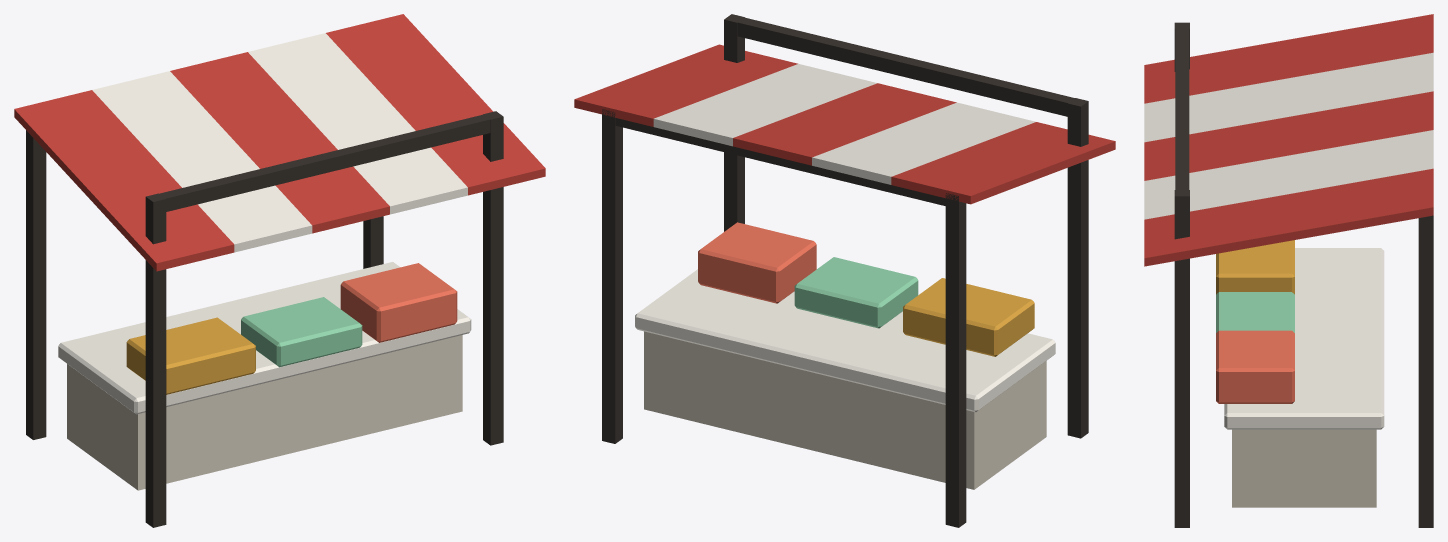
File: market_stall.glb
3 views of the same model, side by side, from view 1: azimuth 30°, elevation 25°; view 2: azimuth 150°, elevation 25°; view 3: azimuth 270°, elevation 25° (orthographic).
Parts seen in each view (by area): view 1: market_stall_apron, market_stall_awning0, market_stall_awning1, market_stall_awning2, market_stall_awning3, market_stall_awning4, market_stall_counter, market_stall_beamF, market_stall_crateC, market_stall_post-1-1, market_stall_post-11, market_stall_post1-1 (+3 smaller); view 2: market_stall_apron, market_stall_counter, market_stall_awning0, market_stall_awning1, market_stall_awning3, market_stall_awning2, market_stall_awning4, market_stall_post-11, market_stall_beamF, market_stall_post-1-1, market_stall_crateC, market_stall_post11 (+4 smaller); view 3: market_stall_counter, market_stall_awning4, market_stall_apron, market_stall_awning1, market_stall_awning2, market_stall_awning0, market_stall_awning3, market_stall_crateC, market_stall_post1-1, market_stall_post11, market_stall_crateA, market_stall_crateB (+1 smaller).
Boxes of the visible parts, left/top/right/bottom form: market_stall_apron: left=67, top=335, right=462, bottom=490; market_stall_awning0: left=14, top=90, right=234, bottom=271; market_stall_awning1: left=92, top=71, right=312, bottom=252; market_stall_awning2: left=170, top=52, right=389, bottom=233; market_stall_awning3: left=248, top=33, right=467, bottom=214; market_stall_awning4: left=326, top=14, right=545, bottom=195; market_stall_counter: left=58, top=262, right=471, bottom=414; market_stall_beamF: left=147, top=111, right=502, bottom=214; market_stall_crateC: left=340, top=263, right=457, bottom=342; market_stall_post-1-1: left=145, top=193, right=166, bottom=527; market_stall_post-11: left=26, top=130, right=46, bottom=439; market_stall_post1-1: left=483, top=111, right=503, bottom=445; market_stall_apron: left=644, top=331, right=1046, bottom=489; market_stall_counter: left=635, top=269, right=1055, bottom=412; market_stall_awning0: left=891, top=122, right=1115, bottom=204; market_stall_awning1: left=812, top=102, right=1035, bottom=184; market_stall_awning3: left=653, top=64, right=877, bottom=146; market_stall_awning2: left=733, top=83, right=956, bottom=165; market_stall_awning4: left=574, top=44, right=797, bottom=126; market_stall_post-11: left=945, top=193, right=966, bottom=527; market_stall_beamF: left=727, top=14, right=1088, bottom=116; market_stall_post-1-1: left=1067, top=98, right=1088, bottom=438; market_stall_crateC: left=698, top=222, right=816, bottom=303; market_stall_post11: left=602, top=109, right=622, bottom=443; market_stall_counter: left=1224, top=248, right=1384, bottom=429; market_stall_awning4: left=1144, top=168, right=1433, bottom=266; market_stall_apron: left=1232, top=429, right=1376, bottom=507; market_stall_awning1: left=1144, top=52, right=1433, bottom=142; market_stall_awning2: left=1144, top=91, right=1433, bottom=180; market_stall_awning0: left=1144, top=14, right=1433, bottom=103; market_stall_awning3: left=1144, top=130, right=1433, bottom=219; market_stall_crateC: left=1216, top=330, right=1294, bottom=403; market_stall_post1-1: left=1174, top=190, right=1189, bottom=527; market_stall_post11: left=1418, top=215, right=1433, bottom=527; market_stall_crateA: left=1216, top=240, right=1294, bottom=294; market_stall_crateB: left=1216, top=292, right=1294, bottom=332.
Bounding box in the file's own units: 3 × 2.42 × 1.9.
